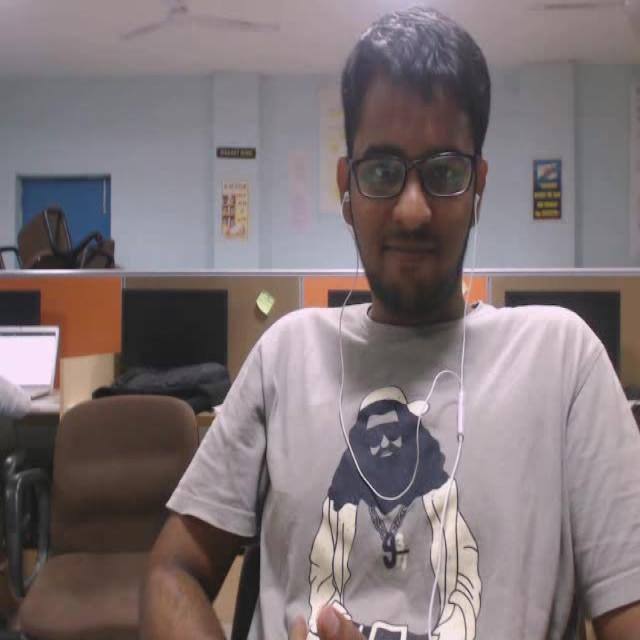Engaged: (317, 4, 524, 370)
